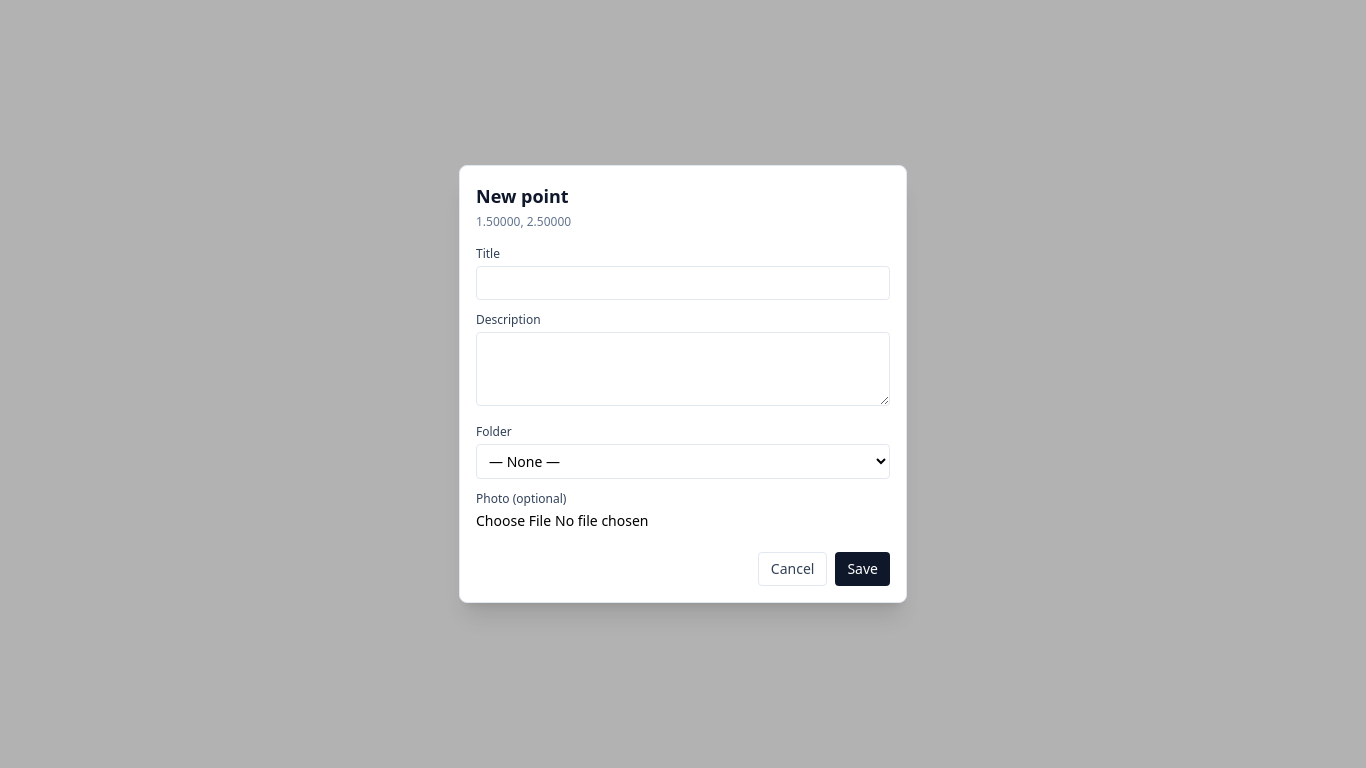
Scenario: CreatePointForm (T048) › shows validation when title is empty
Click the button "Save" at point(863, 569), box [835,552,890,586]
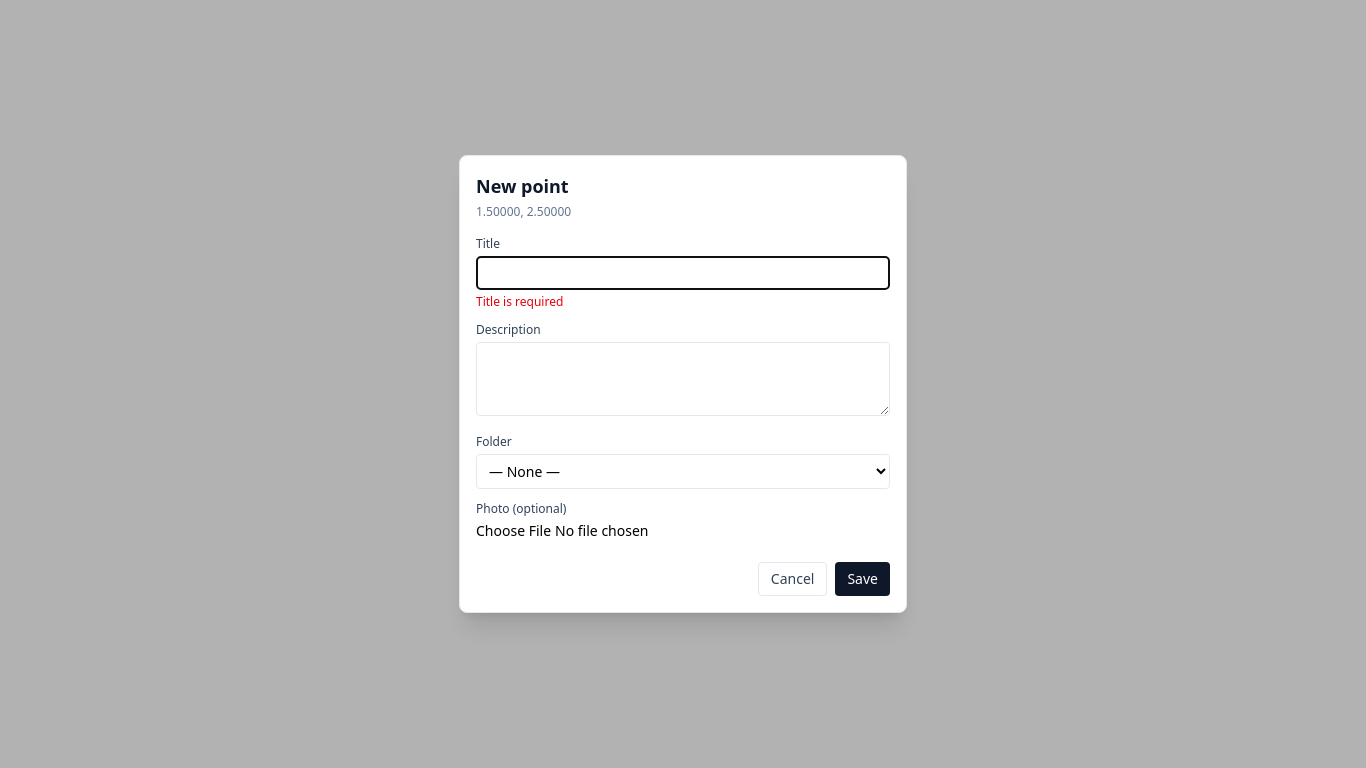
Now the message "Title is required" is shown, box [476,293,563,310]
